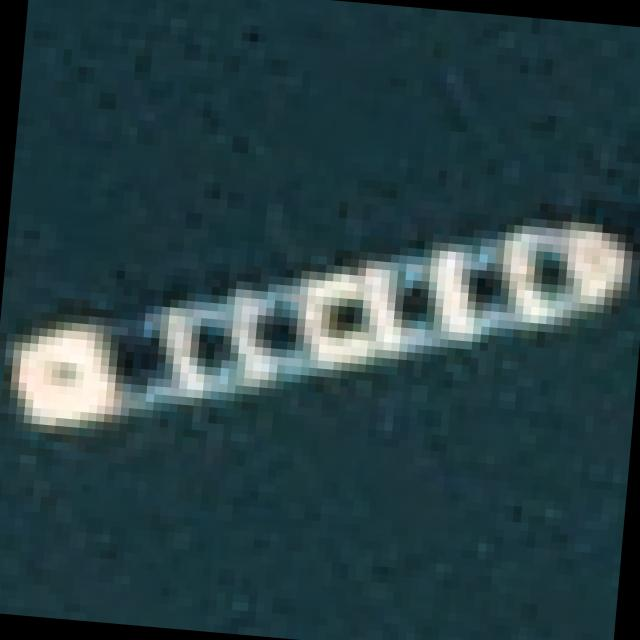ship: (0, 149, 640, 517)
